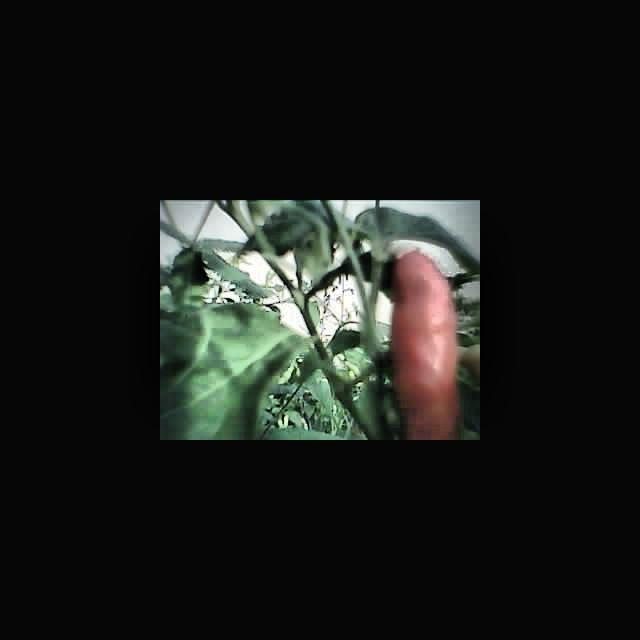Cabai: (392, 247, 460, 428)
